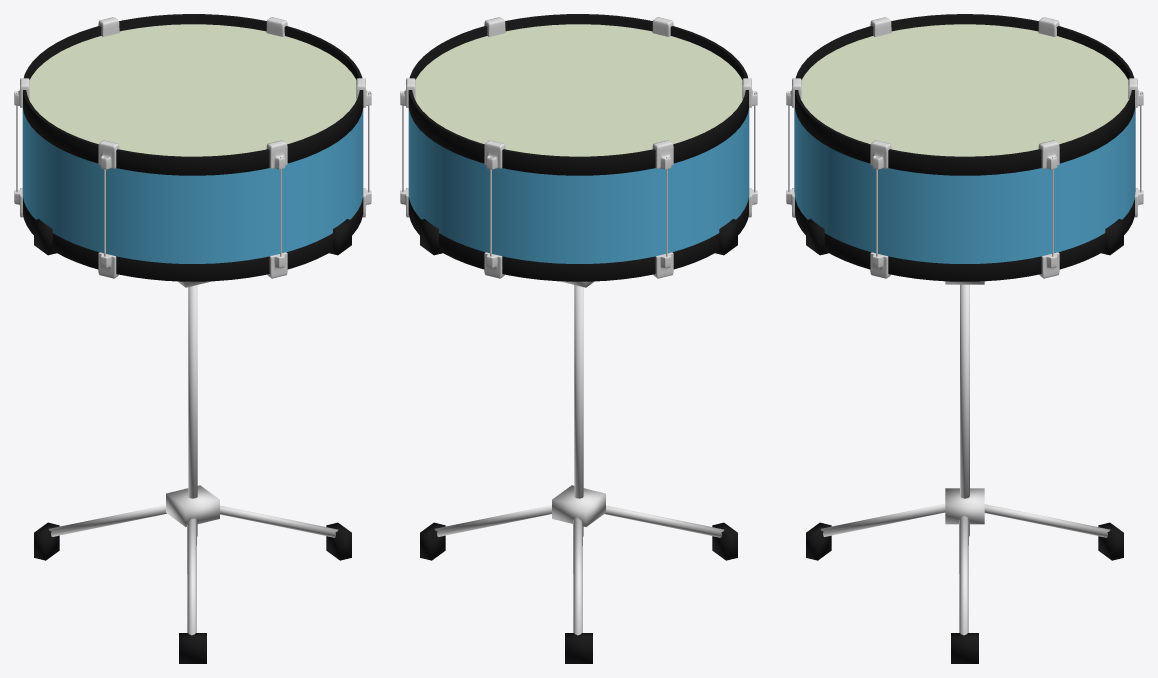
Rendered from Snare Drum Model.fbx.
3 views of the same model, side by side, from view 1: azimuth 30°, elevation 25°; view 2: azimuth 150°, elevation 25°; view 3: azimuth 270°, elevation 25° (orthographic).
Visible parts, largest first — view 1: Snare Drum, Floor Stand, Cylinder, Cube.002, Cube; view 2: Snare Drum, Floor Stand, Cylinder, Cube.002, Cube; view 3: Snare Drum, Floor Stand, Cylinder, Cube.002, Cube.
Part boxes in pixels (x1,y1,x2,y2): Snare Drum: [14, 14, 371, 281]; Floor Stand: [34, 505, 351, 663]; Cylinder: [188, 285, 197, 536]; Cube.002: [166, 485, 219, 526]; Cube: [34, 219, 351, 255]; Snare Drum: [400, 14, 757, 281]; Floor Stand: [420, 505, 737, 663]; Cylinder: [574, 285, 583, 536]; Cube.002: [552, 485, 605, 526]; Cube: [420, 219, 737, 255]; Snare Drum: [786, 14, 1143, 281]; Floor Stand: [806, 503, 1123, 663]; Cylinder: [960, 284, 969, 536]; Cube.002: [945, 488, 984, 524]; Cube: [806, 219, 1123, 255].
Size of the model in its own units: 0.3601 by 0.5752 by 0.3668.
